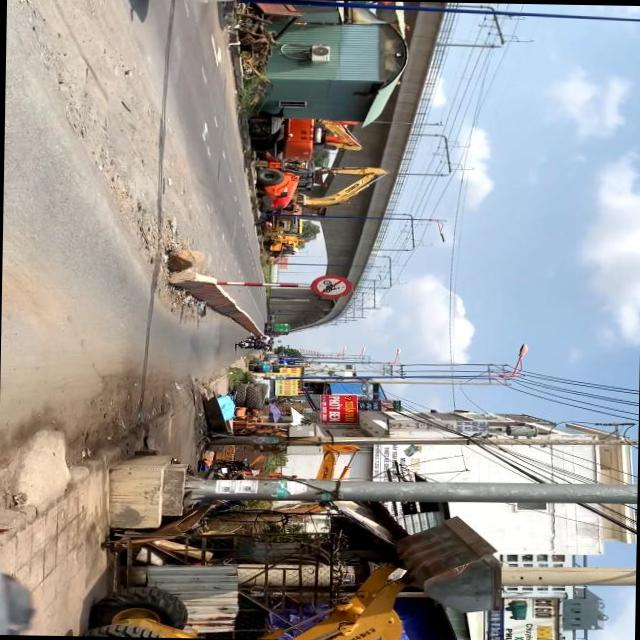P-104: (309, 274, 353, 298)
